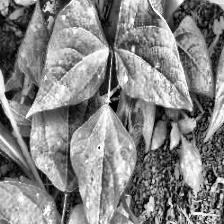Bean Rust: (23, 0, 107, 121), (112, 0, 196, 112), (70, 105, 136, 224), (0, 177, 57, 224), (58, 202, 154, 224)
